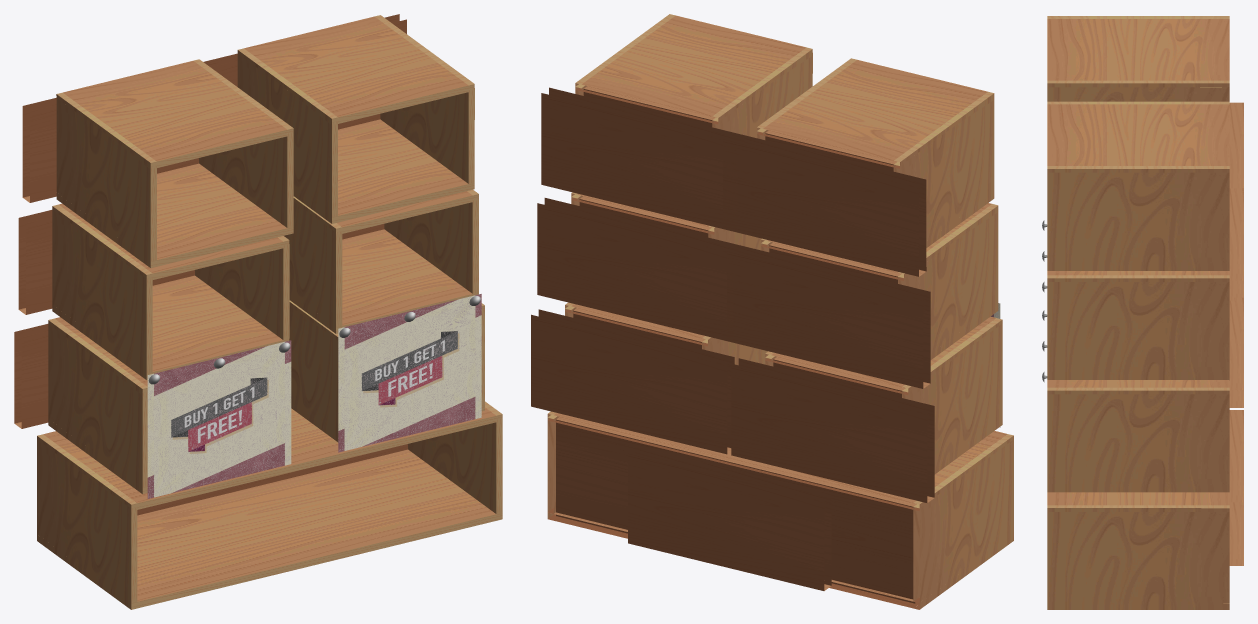
The model's file is layout_poster_wide_4s_2_column_wide_bot.fbx.
The picture shows the model from 3 angles, left to right: view 1: azimuth 30°, elevation 25°; view 2: azimuth 150°, elevation 25°; view 3: azimuth 270°, elevation 25°; orthographic projection. The views are drawn at different scales.
Parts seen in each view (by area): view 1: Shelf-BM-00, Mesh-Poster-Small01, Mesh-Poster-Small01 1, Shelf-TM-00 6, Shelf-TM-00 5, Shelf-CL-01, Shelf-CL-01 3, Shelf-CL-01 5, Shelf-CL-01 1, Shelf-BM-00 6, Shelf-BM-00 5, Shelf-BM-00 3 (+28 smaller); view 2: Shelf-Back-00 (1), Shelf-Back-00 (1) 1, Shelf-Back-00 (1) 5, Shelf-Back-00 (1) 3, Shelf-Back-00 (1) 2, Shelf-Back-00 (1) 4, Shelf-Back-00 (1) 6, Shelf-Back-00, Shelf-TM-00 5, Shelf-TM-00 6, Shelf-CL-01, Shelf-CL-01 5 (+25 smaller); view 3: Shelf-CR-01 6, Shelf-CR-01, Shelf-CR-01 2, Shelf-CR-01 4, Shelf-TM-00 5, Shelf-TM-00 6, Shelf-CR-01 5, Shelf-TM-00, Shelf-CR-00 (1) 2, Shelf-TM-00 2, Shelf-CR-00 (1) 5, Shelf-Back-00 (1) 6 (+14 smaller).
Part boxes in pixels (box(x1,y1,x2,y2)): Shelf-BM-00: box(137, 449, 496, 608); Mesh-Poster-Small01: box(147, 340, 291, 498); Mesh-Poster-Small01 1: box(338, 294, 481, 452); Shelf-TM-00 6: box(244, 16, 468, 123); Shelf-TM-00 5: box(63, 61, 287, 167); Shelf-CL-01: box(37, 440, 137, 603); Shelf-CL-01 3: box(52, 210, 152, 373); Shelf-CL-01 5: box(56, 98, 156, 261); Shelf-CL-01 1: box(48, 324, 147, 487); Shelf-BM-00 6: box(338, 119, 468, 222); Shelf-BM-00 5: box(157, 163, 287, 266); Shelf-BM-00 3: box(152, 275, 283, 373); Shelf-Back-00 (1): box(628, 446, 831, 590); Shelf-Back-00 (1) 1: box(731, 358, 934, 502); Shelf-Back-00 (1) 5: box(723, 132, 926, 276); Shelf-Back-00 (1) 3: box(727, 244, 930, 388); Shelf-Back-00 (1) 2: box(531, 309, 734, 454); Shelf-Back-00 (1) 4: box(537, 198, 740, 342); Shelf-Back-00 (1) 6: box(541, 87, 744, 232); Shelf-Back-00: box(556, 417, 916, 603); Shelf-TM-00 5: box(763, 60, 987, 167); Shelf-TM-00 6: box(582, 15, 806, 122); Shelf-CL-01: box(913, 439, 1013, 603); Shelf-CL-01 5: box(893, 100, 994, 241); Shelf-CR-01 6: box(1047, 172, 1229, 264); Shelf-CR-01: box(1047, 512, 1229, 603); Shelf-CR-01 2: box(1047, 394, 1229, 485); Shelf-CR-01 4: box(1047, 282, 1229, 373); Shelf-TM-00 5: box(1047, 19, 1229, 80); Shelf-TM-00 6: box(1047, 104, 1229, 165); Shelf-CR-01 5: box(1047, 87, 1229, 101); Shelf-TM-00: box(1047, 492, 1229, 505); Shelf-CR-00 (1) 2: box(1047, 387, 1229, 394); Shelf-TM-00 2: box(1047, 380, 1229, 387); Shelf-CR-00 (1) 5: box(1047, 80, 1229, 87); Shelf-Back-00 (1) 6: box(1229, 188, 1243, 280).
Bounding box in the file's own units: 194 × 207 × 88.59.
